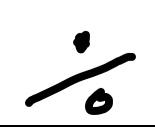div: (26, 31, 136, 114)
